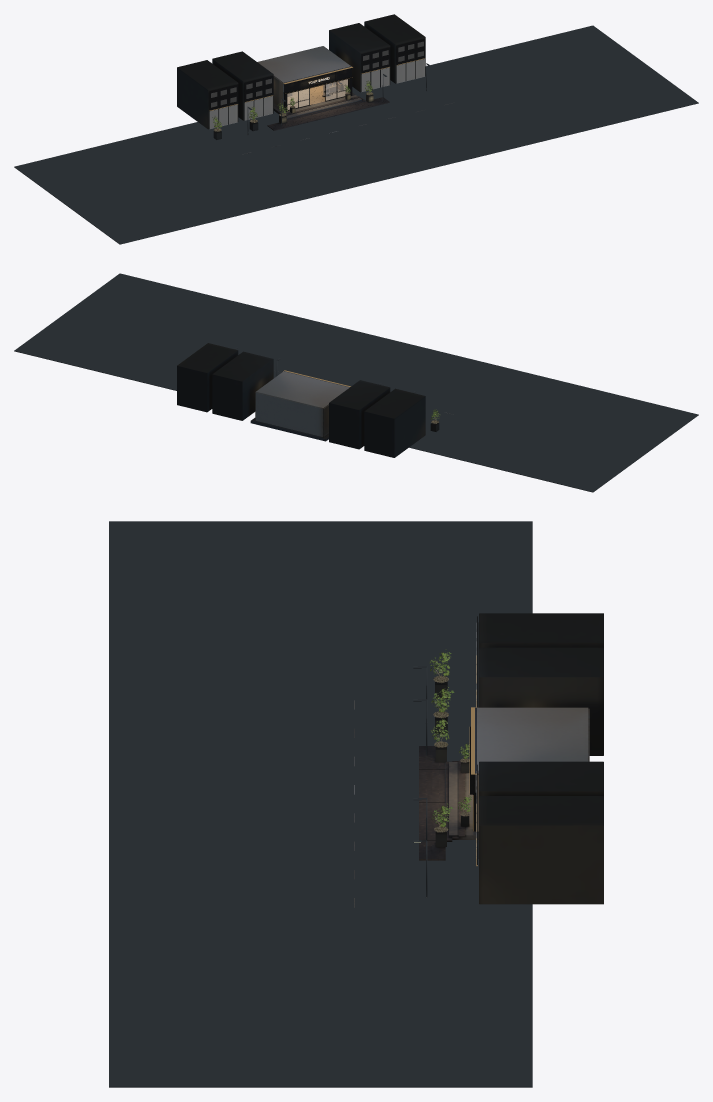
File: storefront.glb
3 views of the same model, one above another, from view 1: azimuth 30°, elevation 25°; view 2: azimuth 150°, elevation 25°; view 3: azimuth 270°, elevation 25° (orthographic). The views are drawn at different scales.
Visible parts, largest first — view 1: exterior / Wet asphalt, context / Charcoal mineral plaster, context / Architectural clear glass, context / Charcoal satin ACP, shell / Warm mineral plaster, exterior / Wet dark limestone paving, interior / Warm limestone, facade / Charcoal satin ACP, shell / Unfinished concrete, interior / Architectural clear glass; view 2: exterior / Wet asphalt, context / Charcoal mineral plaster, shell / Warm mineral plaster, shell / Unfinished concrete; view 3: exterior / Wet asphalt, context / Charcoal mineral plaster, shell / Warm mineral plaster, exterior / Wet dark limestone paving, foliage / potted_plant_01_leaves, shell / Unfinished concrete, interior / Charcoal stone planter.
Boxes of the visible parts, <box> form: exterior / Wet asphalt: <box>14,25,698,244</box>; context / Charcoal mineral plaster: <box>177,14,425,129</box>; context / Architectural clear glass: <box>210,42,424,128</box>; context / Charcoal satin ACP: <box>209,38,425,110</box>; shell / Warm mineral plaster: <box>257,46,350,111</box>; exterior / Wet dark limestone paving: <box>267,96,389,130</box>; interior / Warm limestone: <box>287,84,345,109</box>; facade / Charcoal satin ACP: <box>283,68,352,111</box>; shell / Unfinished concrete: <box>273,66,361,118</box>; interior / Architectural clear glass: <box>287,79,347,109</box>; exterior / Wet asphalt: <box>14,273,698,492</box>; context / Charcoal mineral plaster: <box>177,343,425,457</box>; shell / Warm mineral plaster: <box>255,371,349,436</box>; shell / Unfinished concrete: <box>250,371,349,441</box>; exterior / Wet asphalt: <box>109,521,532,1087</box>; context / Charcoal mineral plaster: <box>479,613,603,904</box>; shell / Warm mineral plaster: <box>477,707,589,831</box>; exterior / Wet dark limestone paving: <box>419,746,464,860</box>; foliage / potted_plant_01_leaves: <box>429,649,471,827</box>; shell / Unfinished concrete: <box>449,707,478,839</box>; interior / Charcoal stone planter: <box>435,681,469,846</box>.
Size of the model in its own units: 120 by 8.47 by 44.4.
27 materials, 19 textured.
